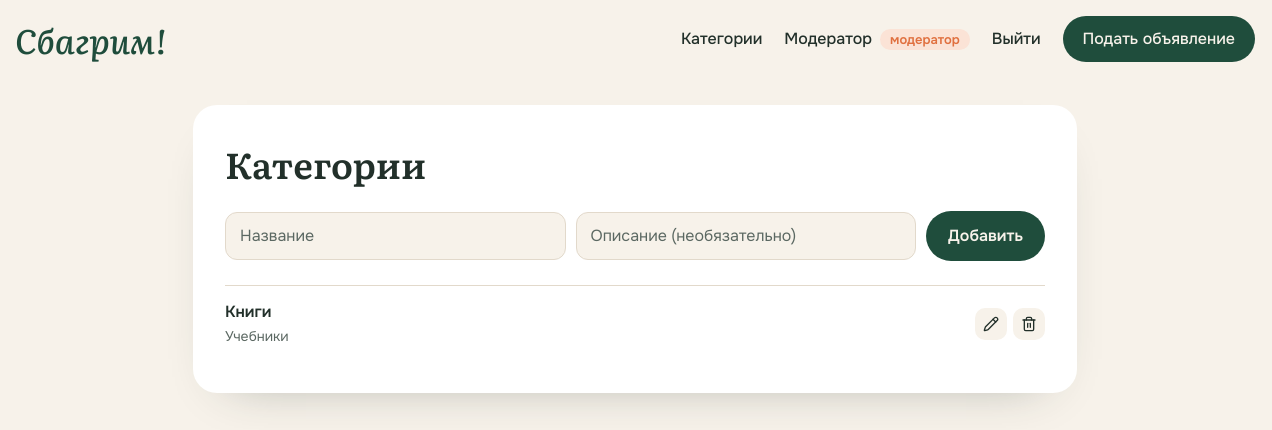
категории › модератор переименовывает категорию
Click the button named "Изменить Книги". click: (991, 324)
box: [975, 308, 1007, 340]
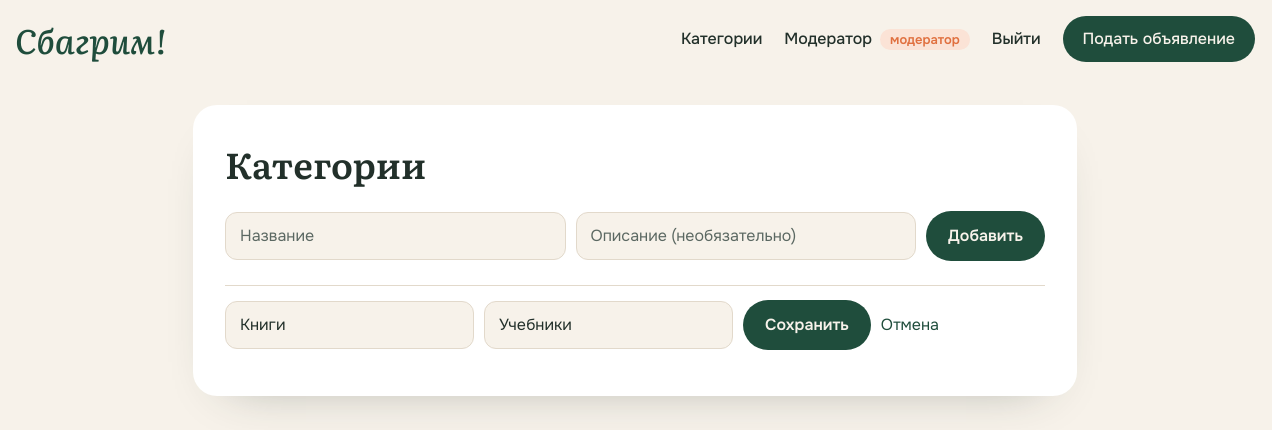
Replace the text in the field named "Название" with "Литература". click: (350, 325)
box: [225, 301, 474, 349]
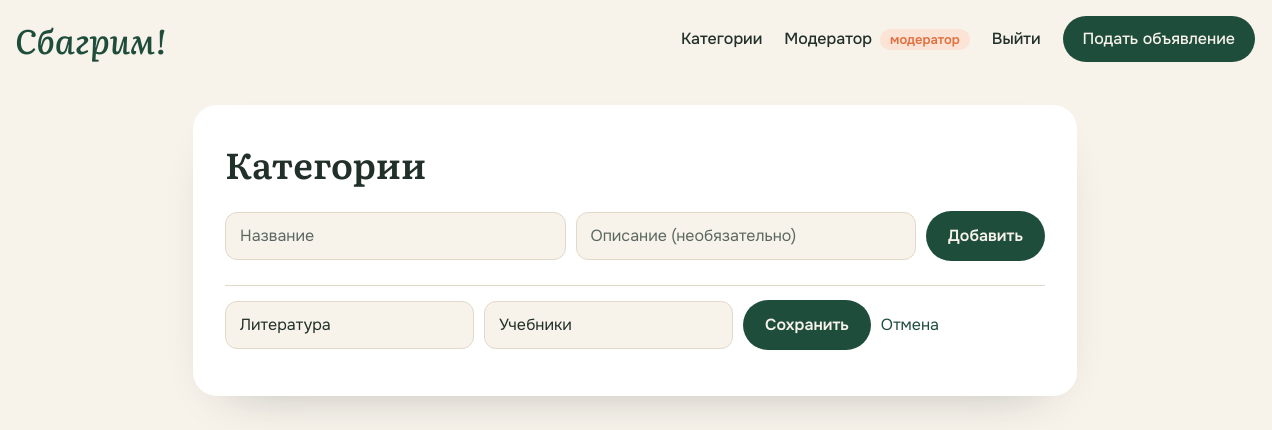
Click the button "Сохранить". click: (807, 325)
box: [743, 300, 871, 350]
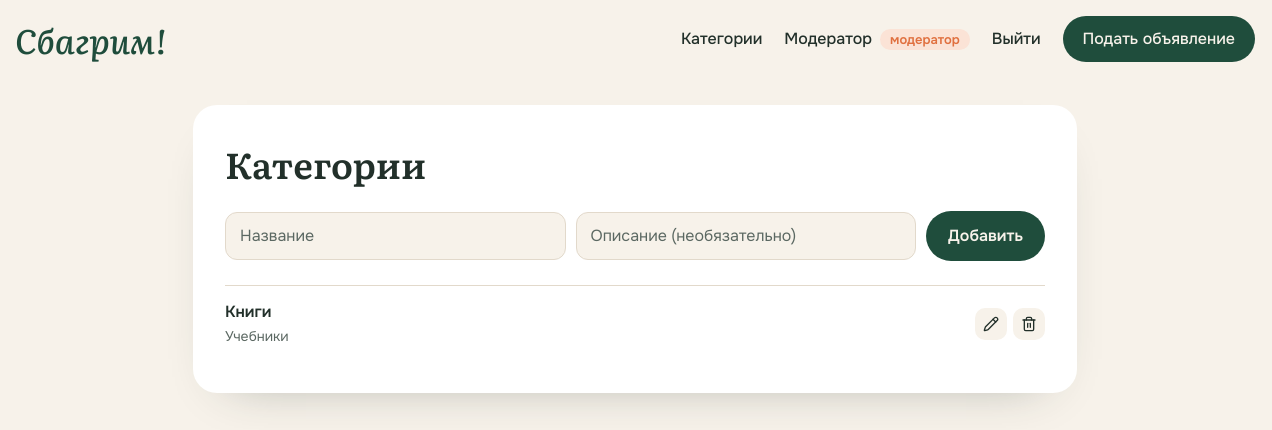
Expected: the button named "Изменить Книги" is shown, [975, 308, 1007, 340]
